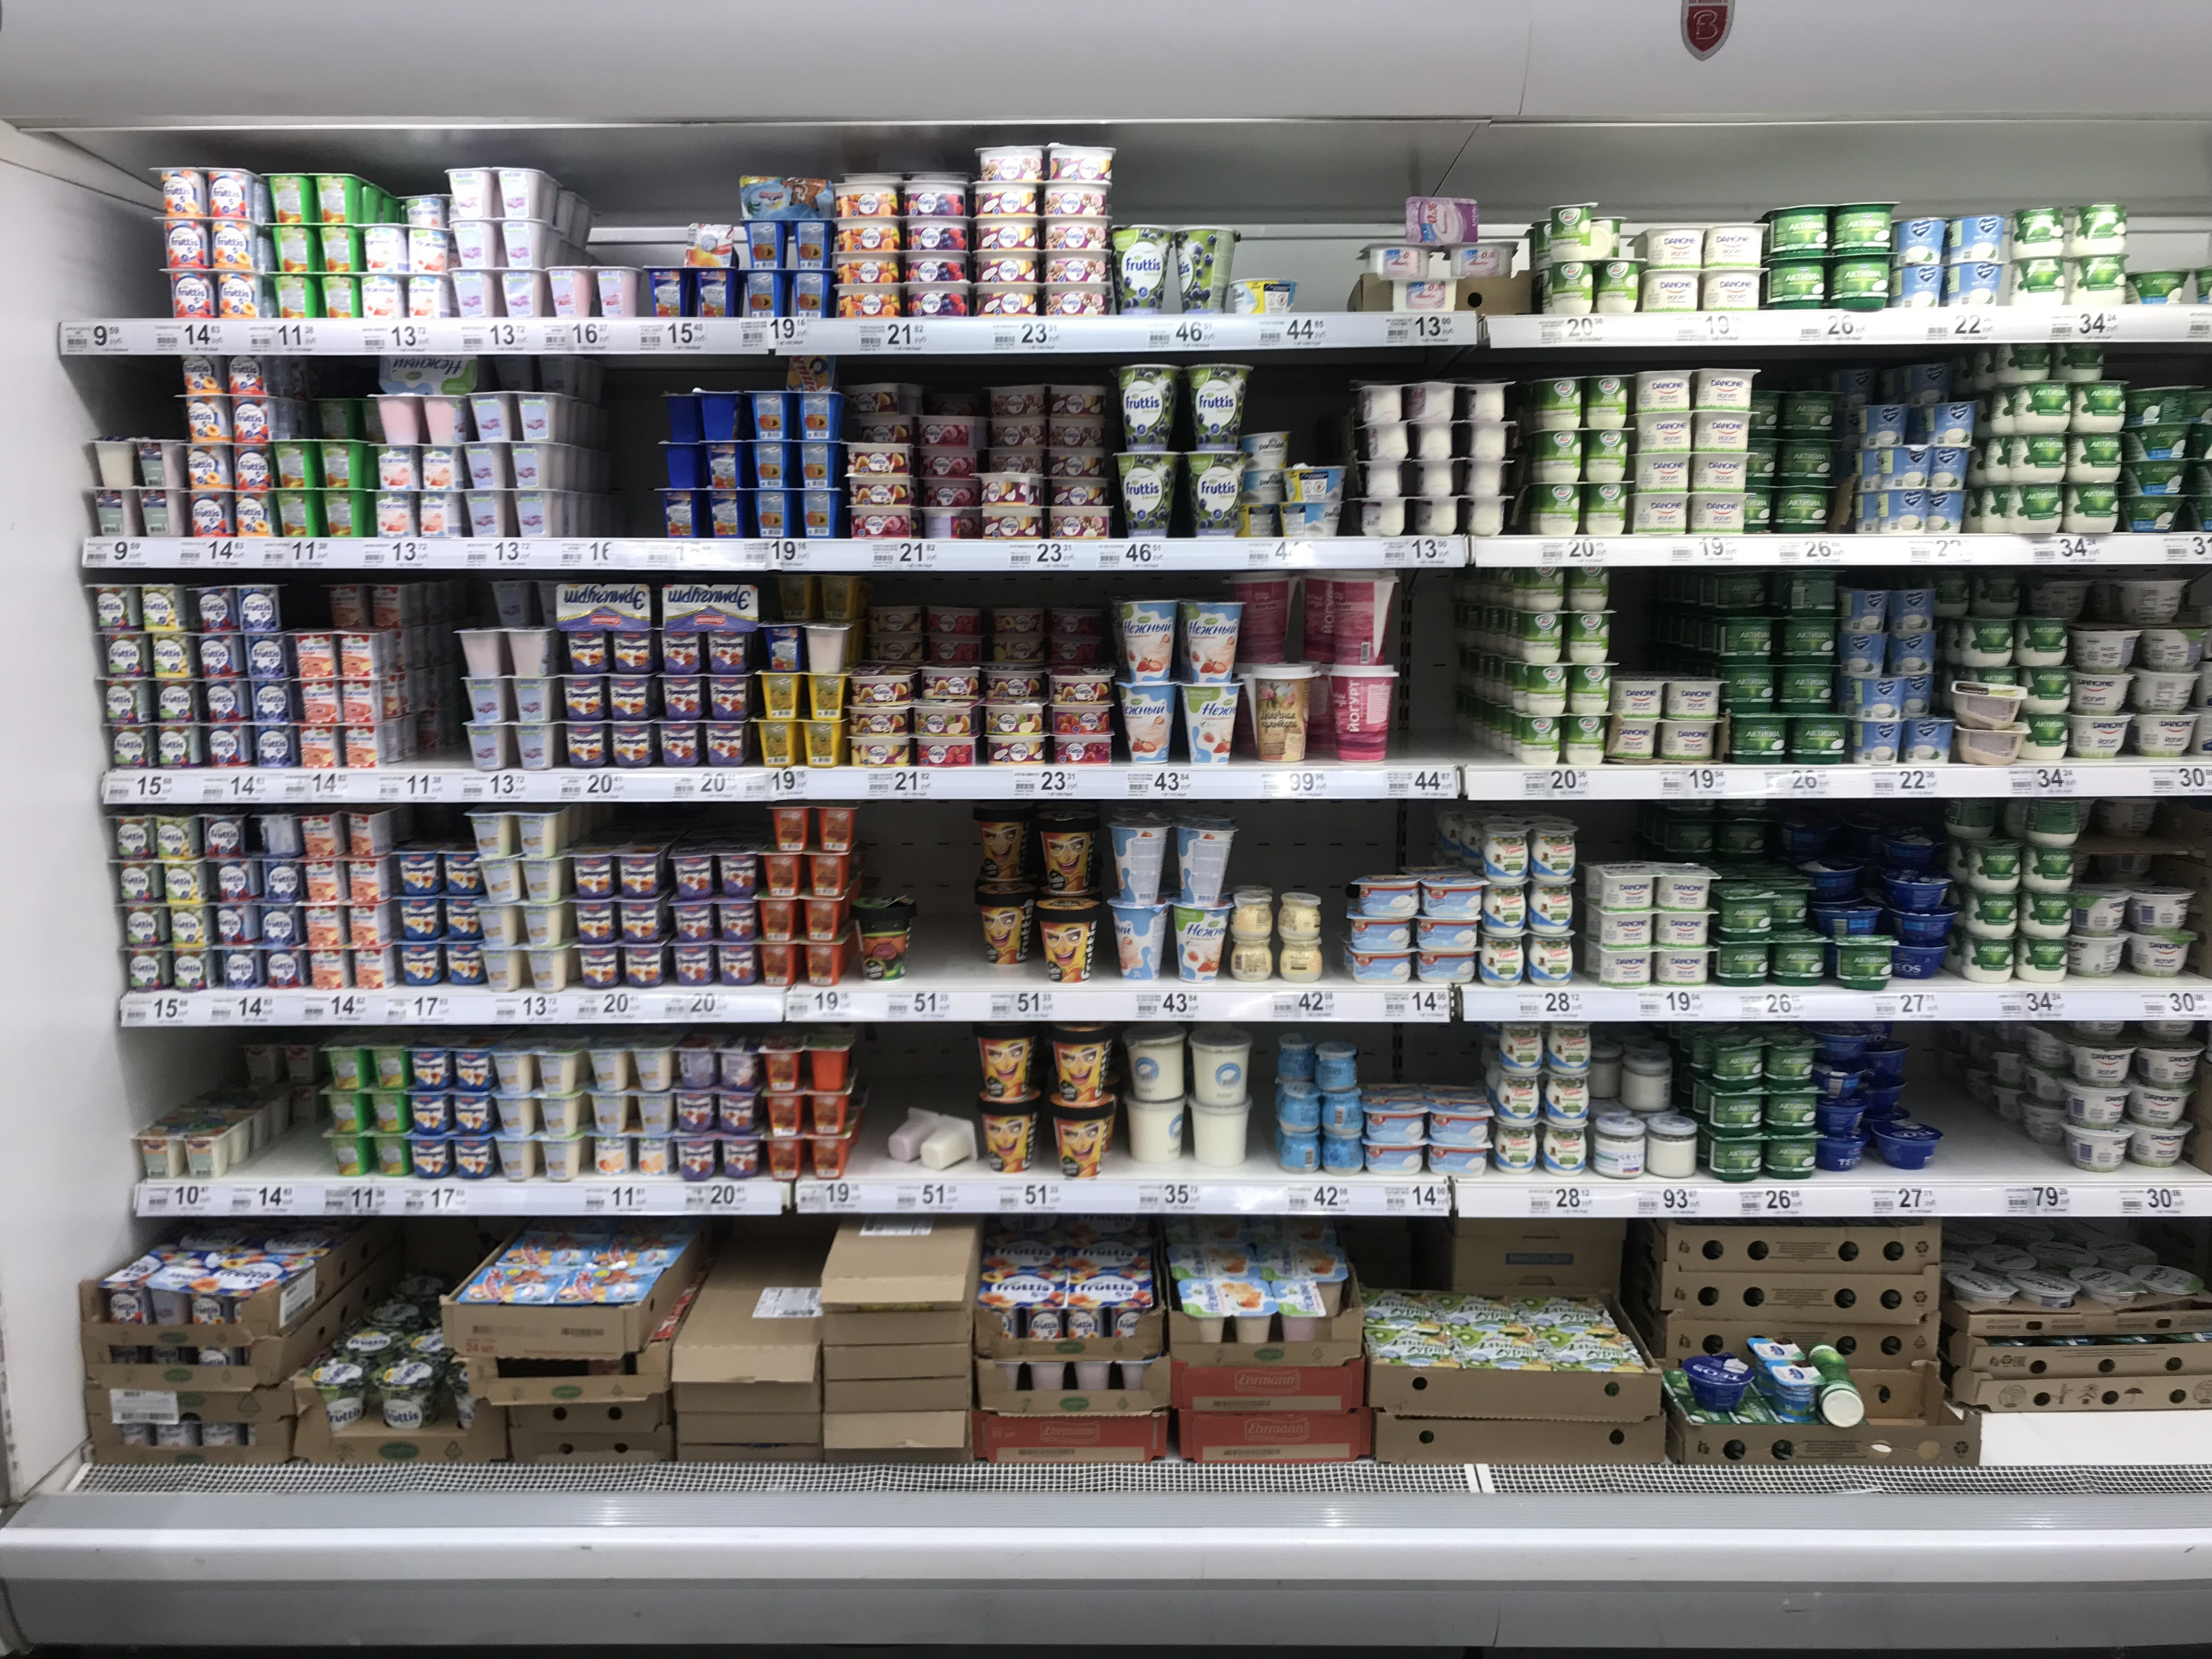yogbox: (1244, 666, 1313, 762), (850, 899, 928, 983), (1111, 366, 1186, 450), (1331, 666, 1393, 763), (1184, 448, 1245, 545), (1231, 572, 1292, 667), (1334, 573, 1395, 667), (1186, 364, 1254, 448), (1111, 223, 1170, 319), (1115, 451, 1179, 538), (1177, 681, 1240, 769), (1038, 901, 1101, 986), (1172, 225, 1231, 312), (1115, 683, 1177, 765), (1116, 599, 1181, 678), (1176, 824, 1233, 908), (977, 894, 1038, 971), (1123, 1026, 1188, 1098), (977, 1026, 1038, 1101), (1183, 601, 1240, 680), (1191, 1096, 1254, 1168), (1040, 814, 1096, 892), (1127, 1093, 1190, 1162), (1111, 823, 1165, 903), (1108, 901, 1163, 978), (1054, 1026, 1111, 1100), (1193, 1032, 1251, 1105), (1055, 1105, 1111, 1178), (982, 1105, 1038, 1175), (1174, 901, 1224, 978), (373, 1364, 432, 1427), (972, 809, 1022, 882), (307, 1370, 366, 1431), (1352, 875, 1430, 920), (1402, 197, 1477, 244), (1620, 1054, 1676, 1117), (401, 277, 465, 331), (1043, 139, 1120, 183), (446, 162, 498, 225), (1876, 1122, 1940, 1173), (496, 160, 550, 220), (361, 218, 415, 277), (152, 173, 214, 223), (209, 216, 260, 279), (268, 171, 324, 227), (315, 483, 373, 537), (369, 394, 425, 448), (148, 223, 214, 268), (1688, 1363, 1752, 1408), (794, 392, 848, 446), (211, 270, 266, 322), (502, 626, 557, 678), (1590, 1117, 1642, 1173), (444, 1371, 491, 1432), (314, 166, 359, 228), (458, 486, 510, 540), (1524, 662, 1576, 716), (455, 626, 505, 681), (1275, 892, 1331, 943), (1533, 484, 1583, 540), (1527, 823, 1576, 880), (1851, 673, 1911, 720), (270, 274, 322, 326), (413, 488, 465, 540), (1895, 211, 1946, 265), (1649, 1119, 1698, 1175), (1902, 718, 1959, 765), (1364, 1101, 1428, 1143), (1414, 913, 1484, 951), (1430, 1105, 1500, 1143), (495, 223, 545, 275), (371, 446, 423, 497), (1545, 260, 1597, 310), (164, 267, 218, 315), (85, 584, 139, 633), (1547, 1025, 1595, 1079), (451, 216, 498, 272), (594, 263, 641, 319), (1423, 875, 1486, 917), (1228, 279, 1303, 314), (1392, 277, 1467, 312), (846, 666, 911, 706), (651, 261, 695, 321), (421, 394, 472, 444), (345, 810, 395, 861), (603, 580, 653, 631), (928, 1121, 979, 1171), (693, 390, 745, 439), (416, 443, 465, 495), (1529, 882, 1578, 934), (1346, 913, 1413, 951), (1541, 376, 1585, 434), (1040, 185, 1111, 220), (904, 223, 972, 260), (1442, 244, 1510, 281), (1806, 857, 1865, 899), (545, 268, 596, 317), (136, 488, 186, 537), (803, 1042, 852, 1093), (1317, 1046, 1366, 1096), (1517, 613, 1568, 662), (291, 631, 338, 683), (1547, 1073, 1594, 1126), (1583, 429, 1630, 481), (354, 277, 408, 322), (1550, 206, 1595, 260), (1595, 260, 1641, 314), (1892, 939, 1952, 979), (904, 281, 970, 317), (1047, 249, 1113, 286), (833, 181, 895, 220), (749, 490, 798, 538), (315, 439, 364, 488), (273, 488, 322, 537), (747, 390, 794, 441), (268, 439, 315, 490), (1527, 936, 1575, 986), (1851, 720, 1902, 767), (314, 223, 359, 275), (738, 221, 791, 267), (981, 505, 1049, 540), (92, 434, 138, 486), (155, 812, 200, 864), (1348, 950, 1416, 985), (1480, 934, 1526, 986), (845, 507, 916, 540), (977, 143, 1042, 179), (1890, 868, 1954, 904), (470, 390, 514, 444), (1540, 427, 1583, 481), (1818, 1129, 1874, 1171), (841, 441, 911, 474), (1486, 824, 1526, 882), (970, 183, 1043, 214), (702, 441, 751, 488), (796, 490, 845, 537), (106, 814, 155, 861), (463, 723, 510, 772), (1498, 1023, 1545, 1072), (1879, 490, 1928, 537), (212, 167, 258, 218), (686, 221, 737, 267), (157, 857, 207, 903), (1282, 938, 1332, 983), (1409, 380, 1460, 425), (1524, 714, 1569, 765), (1583, 376, 1629, 427), (406, 225, 458, 268), (693, 268, 737, 321), (1460, 378, 1512, 422), (1496, 1122, 1540, 1175), (761, 622, 803, 676), (1026, 1291, 1068, 1345), (1883, 448, 1937, 490), (1042, 216, 1113, 247), (916, 411, 977, 448), (268, 227, 315, 274), (794, 443, 841, 490), (463, 443, 510, 490), (371, 491, 418, 538), (237, 586, 284, 633), (556, 584, 603, 631), (526, 945, 573, 992), (117, 901, 164, 948), (583, 1046, 631, 1093), (803, 1134, 850, 1182), (315, 274, 364, 319), (467, 809, 512, 857), (474, 857, 523, 903), (761, 1091, 806, 1140), (662, 392, 705, 443), (1498, 1070, 1541, 1121), (974, 282, 1040, 315), (1367, 240, 1430, 275), (1484, 882, 1526, 934), (1569, 612, 1611, 664), (1951, 218, 2003, 260), (1282, 1080, 1320, 1136), (906, 256, 974, 288), (834, 289, 902, 321), (974, 254, 1042, 286), (514, 725, 559, 772), (765, 807, 812, 852), (669, 849, 716, 894), (169, 945, 214, 992), (124, 946, 171, 992), (719, 1136, 765, 1183), (1892, 904, 1959, 936), (301, 814, 345, 863), (96, 1281, 145, 1324), (631, 1044, 674, 1093), (763, 1134, 806, 1183), (1545, 1124, 1588, 1173), (1811, 904, 1883, 934), (91, 486, 132, 537), (202, 812, 244, 863), (406, 1042, 448, 1093), (1860, 403, 1911, 444), (1355, 420, 1407, 460), (836, 223, 902, 254), (1054, 735, 1116, 769), (1416, 950, 1479, 983), (1426, 1145, 1493, 1176), (975, 472, 1035, 507), (1052, 671, 1111, 706), (510, 491, 556, 537), (326, 584, 371, 629), (336, 631, 381, 676), (254, 814, 300, 859), (664, 584, 709, 629), (462, 676, 507, 721), (564, 723, 610, 769), (517, 810, 563, 856), (199, 638, 246, 681), (138, 1131, 181, 1178), (326, 1042, 369, 1089), (451, 1044, 495, 1091), (451, 1091, 495, 1138), (453, 1136, 500, 1180), (535, 1047, 578, 1094), (538, 1136, 582, 1183), (1843, 589, 1890, 633), (792, 223, 834, 272), (751, 441, 792, 490), (514, 390, 556, 439), (214, 945, 263, 986), (1890, 634, 1939, 676), (1926, 406, 1975, 448), (1360, 1140, 1425, 1171), (900, 183, 961, 216), (761, 1039, 799, 1091), (662, 444, 705, 490), (503, 444, 547, 490), (103, 680, 148, 723), (712, 586, 756, 631), (399, 941, 444, 985), (279, 1040, 322, 1086), (1923, 490, 1966, 535), (1583, 486, 1629, 530), (986, 382, 1049, 413), (583, 1133, 631, 1175), (773, 573, 813, 622), (1771, 1371, 1820, 1412), (1566, 716, 1606, 765), (923, 603, 979, 638), (366, 580, 404, 631), (188, 1279, 226, 1330), (1359, 498, 1409, 537), (1947, 265, 1998, 303), (918, 666, 979, 697), (852, 739, 913, 770), (1357, 385, 1409, 422), (850, 413, 914, 443), (921, 507, 979, 540), (986, 706, 1043, 739), (228, 397, 272, 441), (193, 587, 237, 631), (759, 676, 803, 720), (254, 901, 298, 945), (165, 901, 209, 945), (319, 1087, 362, 1131), (535, 1094, 578, 1138), (244, 633, 286, 678), (249, 681, 291, 727), (157, 728, 202, 770), (705, 725, 751, 767), (301, 859, 347, 901), (300, 904, 345, 946), (179, 1133, 221, 1178), (672, 903, 719, 943), (148, 1277, 188, 1324), (409, 1131, 449, 1178), (676, 1134, 716, 1182), (1231, 892, 1271, 939), (1893, 591, 1933, 638), (1930, 450, 1977, 490), (914, 706, 974, 737), (427, 356, 477, 392), (808, 622, 845, 673), (1407, 422, 1458, 458), (1359, 462, 1409, 498), (136, 441, 178, 484), (620, 854, 662, 897), (571, 857, 615, 899), (307, 946, 350, 988), (237, 1040, 280, 1082), (326, 1131, 368, 1175), (631, 1091, 672, 1134), (226, 356, 272, 396), (204, 681, 244, 727), (805, 892, 845, 938), (573, 948, 618, 988), (369, 1133, 409, 1178), (632, 1133, 672, 1178), (1324, 1094, 1369, 1134), (1324, 1133, 1364, 1178), (1045, 284, 1106, 314), (183, 446, 230, 484), (611, 723, 650, 770), (716, 852, 763, 890), (493, 1049, 531, 1096), (718, 1091, 756, 1138), (970, 220, 1035, 247), (381, 356, 430, 392), (1818, 1096, 1869, 1131), (918, 450, 977, 479), (834, 258, 897, 286), (139, 587, 181, 629), (148, 636, 190, 678), (253, 723, 294, 765), (660, 676, 702, 718), (672, 943, 714, 985), (573, 903, 615, 945), (263, 945, 305, 986), (216, 859, 258, 901), (214, 901, 256, 943), (585, 1089, 627, 1131), (979, 1297, 1021, 1338), (296, 725, 336, 769), (815, 803, 855, 847), (718, 903, 761, 943), (263, 857, 303, 901), (674, 1091, 714, 1134), (806, 1094, 850, 1134), (1571, 671, 1611, 714), (493, 582, 531, 627), (523, 857, 561, 903), (113, 861, 158, 899), (498, 1136, 536, 1182), (846, 476, 913, 502), (176, 357, 223, 394), (719, 1044, 756, 1091), (707, 491, 742, 540), (758, 720, 792, 769), (369, 1042, 404, 1091), (867, 605, 921, 636), (988, 671, 1042, 702), (300, 685, 340, 727), (613, 633, 653, 674), (806, 676, 846, 718), (624, 950, 665, 990), (401, 850, 441, 892), (789, 178, 833, 216), (186, 403, 230, 441), (158, 680, 197, 723), (406, 1094, 449, 1133), (1280, 1127, 1318, 1171), (1467, 422, 1510, 460), (1844, 633, 1883, 676), (442, 849, 479, 894), (1052, 507, 1108, 537), (991, 418, 1047, 448), (845, 385, 900, 415), (1052, 418, 1104, 450), (660, 490, 695, 537), (105, 636, 145, 676), (662, 636, 702, 676), (190, 493, 232, 532), (707, 634, 745, 676), (812, 852, 850, 894), (620, 903, 662, 941), (368, 1091, 406, 1133), (674, 1046, 712, 1087), (1233, 941, 1275, 979), (742, 181, 786, 218), (341, 725, 378, 769), (984, 735, 1045, 762), (1897, 268, 1940, 305), (233, 444, 268, 490), (1411, 460, 1456, 495), (1052, 450, 1104, 479), (787, 356, 840, 385), (1050, 606, 1103, 636), (918, 739, 977, 765), (845, 708, 913, 730), (493, 352, 533, 390), (341, 681, 380, 721), (709, 680, 749, 718), (610, 676, 650, 714), (759, 943, 798, 983), (399, 899, 439, 938), (570, 633, 606, 674), (803, 721, 838, 765), (766, 854, 801, 897), (1069, 1297, 1104, 1340), (1052, 477, 1109, 504), (920, 481, 981, 505), (495, 1096, 533, 1134), (1275, 1040, 1313, 1079), (1465, 460, 1503, 498), (111, 728, 152, 765), (566, 680, 606, 716), (355, 946, 395, 983), (991, 638, 1043, 666), (1050, 709, 1106, 735), (444, 901, 479, 943), (1413, 498, 1456, 532), (986, 448, 1049, 471), (1052, 385, 1103, 413), (824, 573, 852, 624), (664, 730, 700, 769), (866, 638, 923, 662), (718, 943, 754, 981), (523, 910, 561, 946), (446, 945, 482, 983), (1465, 497, 1503, 533), (1904, 674, 1939, 714), (1111, 1298, 1144, 1340), (352, 910, 388, 946), (538, 357, 577, 392), (808, 945, 843, 983), (514, 685, 554, 718), (995, 608, 1045, 634), (239, 495, 270, 537), (1818, 1060, 1860, 1091), (352, 863, 385, 901), (923, 638, 979, 660), (709, 730, 744, 765), (209, 727, 242, 763), (1052, 636, 1097, 662), (765, 903, 798, 938)
yogbox.activ.ky.nat: (1789, 714, 1848, 765), (1780, 660, 1839, 711), (1775, 936, 1834, 986), (1777, 486, 1836, 537), (1782, 394, 1841, 444), (1768, 260, 1827, 310), (1768, 209, 1827, 260), (1838, 206, 1897, 256), (1721, 615, 1778, 666), (1780, 441, 1838, 491), (1834, 260, 1892, 310), (1730, 714, 1789, 763), (1716, 889, 1775, 938), (1836, 939, 1895, 988), (1723, 664, 1780, 713), (1780, 613, 1838, 662), (1716, 938, 1773, 986), (1716, 816, 1773, 864), (1712, 1039, 1763, 1089), (1716, 1087, 1766, 1138), (1768, 1040, 1818, 1089), (1768, 1087, 1818, 1136), (1768, 1131, 1818, 1180), (1716, 1134, 1766, 1183)
yogbox.activ.ty.nat: (2010, 484, 2064, 535), (2017, 615, 2071, 666), (2019, 939, 2073, 990), (2017, 938, 2071, 988), (2019, 383, 2071, 434), (2069, 434, 2121, 484), (2064, 486, 2116, 537), (1959, 619, 2012, 669), (2020, 666, 2073, 716), (2019, 716, 2071, 767), (1965, 843, 2017, 894), (2013, 434, 2067, 483), (2069, 380, 2123, 429), (2022, 892, 2076, 941), (1963, 894, 2017, 943), (2026, 845, 2078, 894), (1963, 936, 2015, 985)
